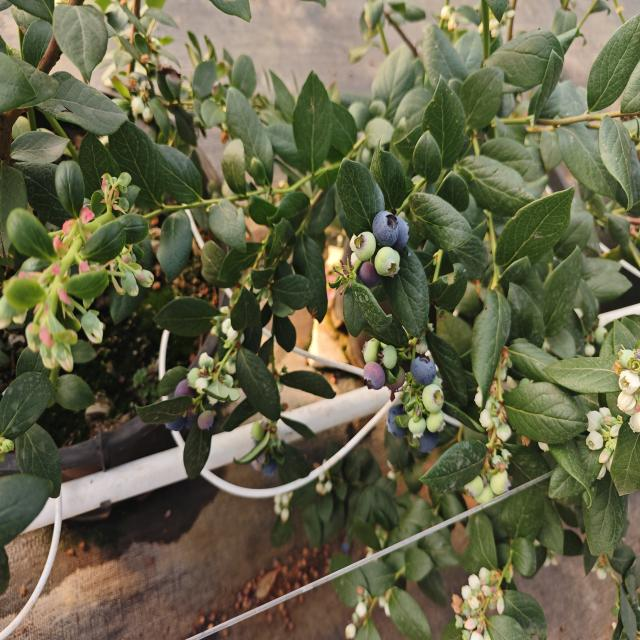ripe: (370, 205, 401, 252), (408, 351, 438, 390), (411, 427, 449, 455), (392, 207, 412, 256), (382, 398, 410, 432)
